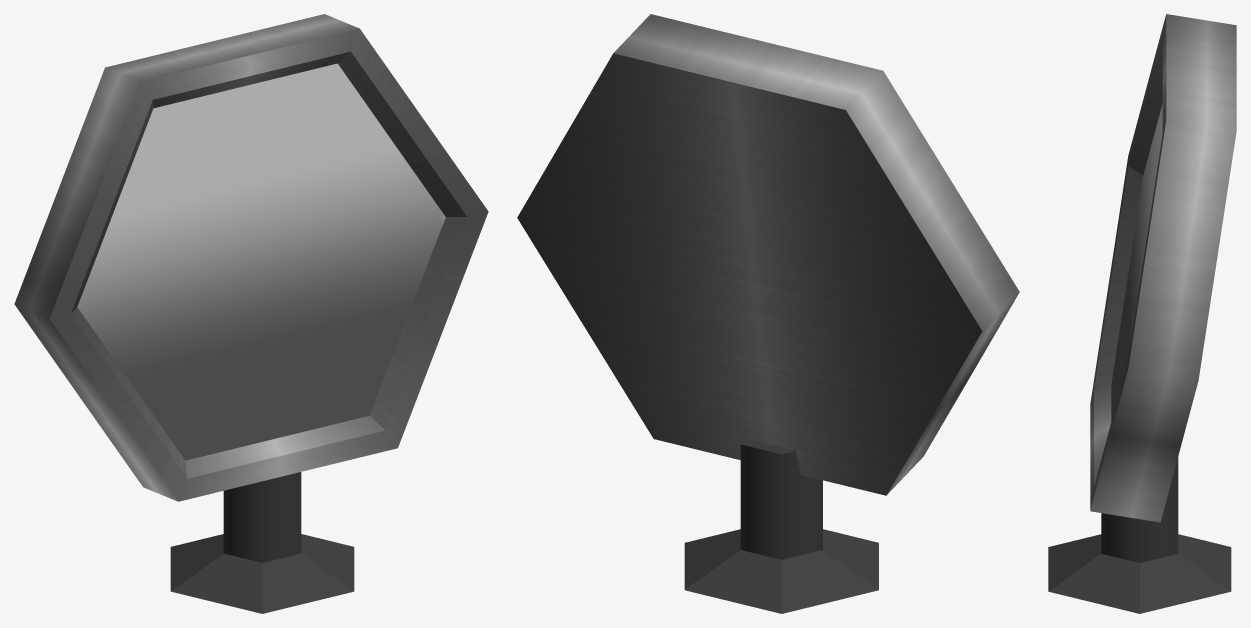
The model's file is Small_Mirror.FBX.
3 views of the same model, side by side, from view 1: azimuth 30°, elevation 25°; view 2: azimuth 150°, elevation 25°; view 3: azimuth 270°, elevation 25° (orthographic). The views are drawn at different scales.
Parts seen in each view (by area): view 1: Small_Mirror; view 2: Small_Mirror; view 3: Small_Mirror.
Boxes of the visible parts, x1=… form: Small_Mirror: x1=14, y1=14, x2=488, y2=613; Small_Mirror: x1=517, y1=14, x2=1019, y2=613; Small_Mirror: x1=1048, y1=14, x2=1236, y2=613.
Size of the model in its own units: 36.4 by 39.94 by 13.55.
